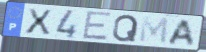4: (54, 9, 79, 40)
A: (166, 19, 196, 47)
E: (81, 10, 113, 41)
M: (138, 15, 170, 46)
Q: (111, 14, 140, 43)
X: (24, 8, 53, 36)
